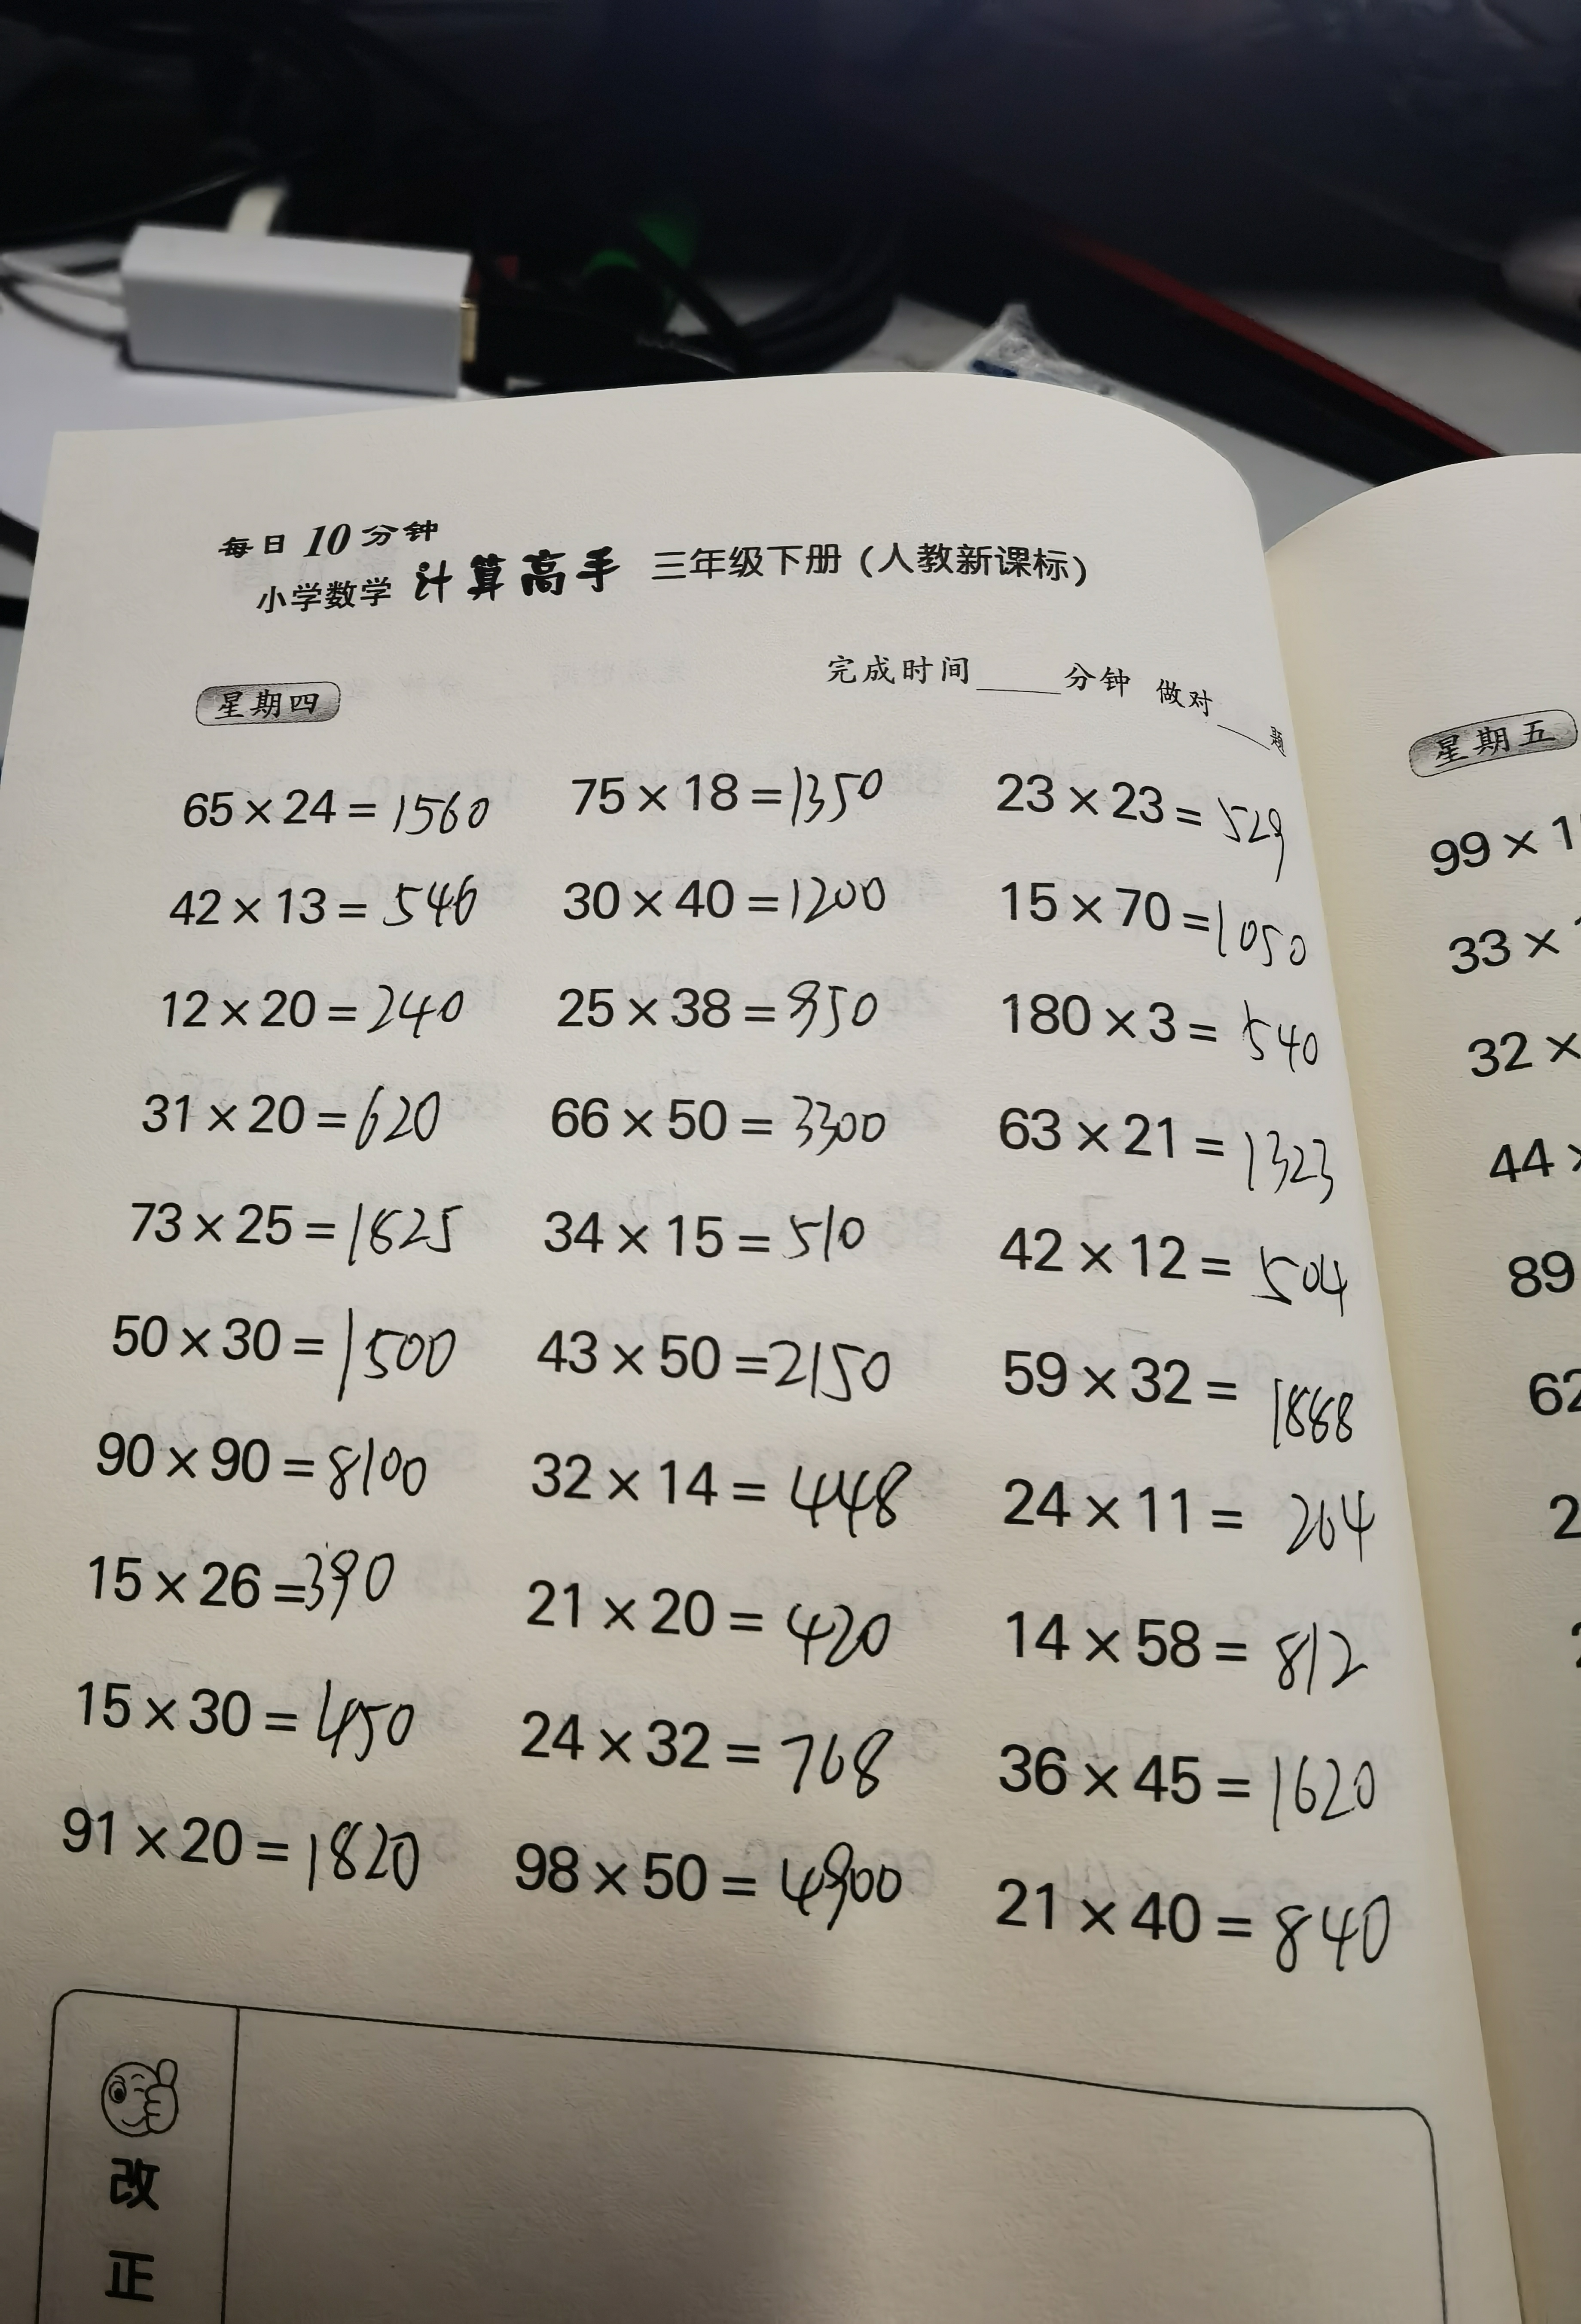equation: (30, 1765, 439, 1908), (985, 1560, 1394, 1699), (1000, 1851, 1405, 1990), (974, 1323, 1403, 1451), (999, 1692, 1389, 1826), (528, 1417, 935, 1541), (505, 1807, 926, 1923), (510, 1683, 937, 1798), (1004, 967, 1378, 1089), (72, 1405, 436, 1528), (974, 736, 1313, 868), (1000, 1456, 1396, 1569), (974, 1221, 1396, 1323), (515, 1562, 903, 1669), (529, 1301, 903, 1412), (988, 1094, 1362, 1205), (988, 854, 1322, 974), (515, 1062, 903, 1158), (78, 1661, 418, 1765), (97, 1306, 468, 1399), (547, 845, 905, 941), (85, 1528, 422, 1625), (132, 1184, 482, 1278), (152, 859, 489, 949), (132, 1082, 464, 1172), (166, 764, 494, 851), (547, 971, 905, 1048), (536, 759, 891, 835), (540, 1189, 877, 1269), (150, 962, 461, 1045)
